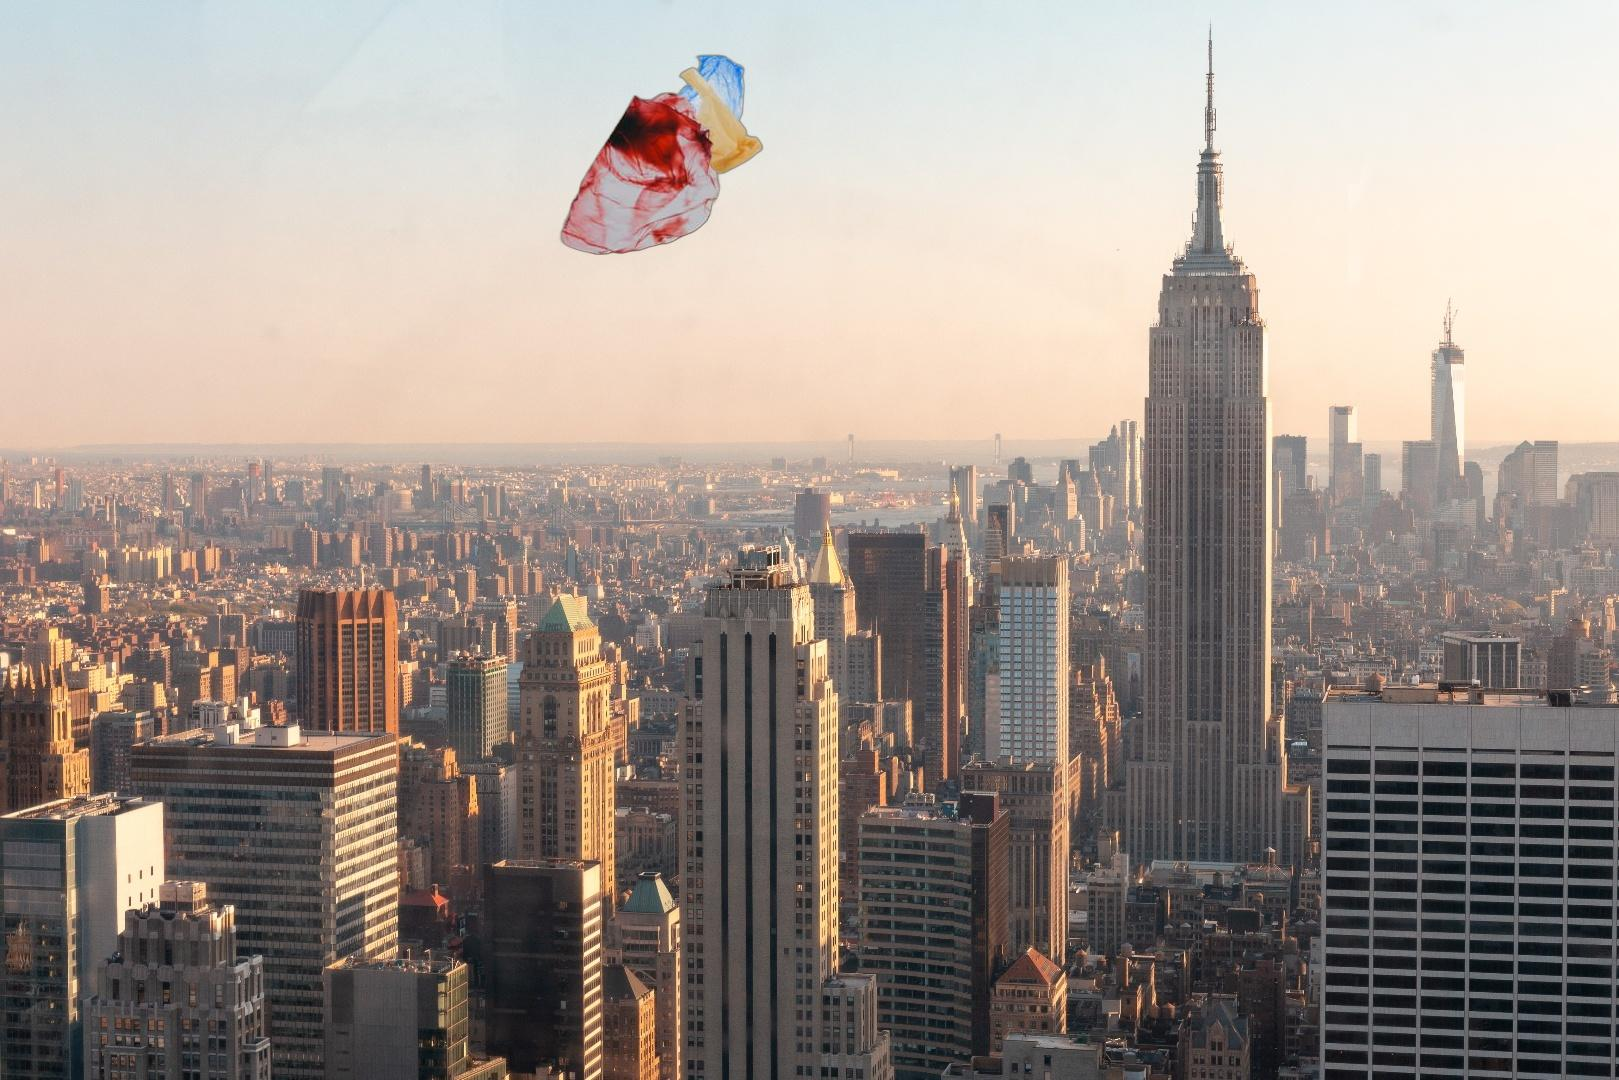plastic-bag: (557, 52, 765, 258)
